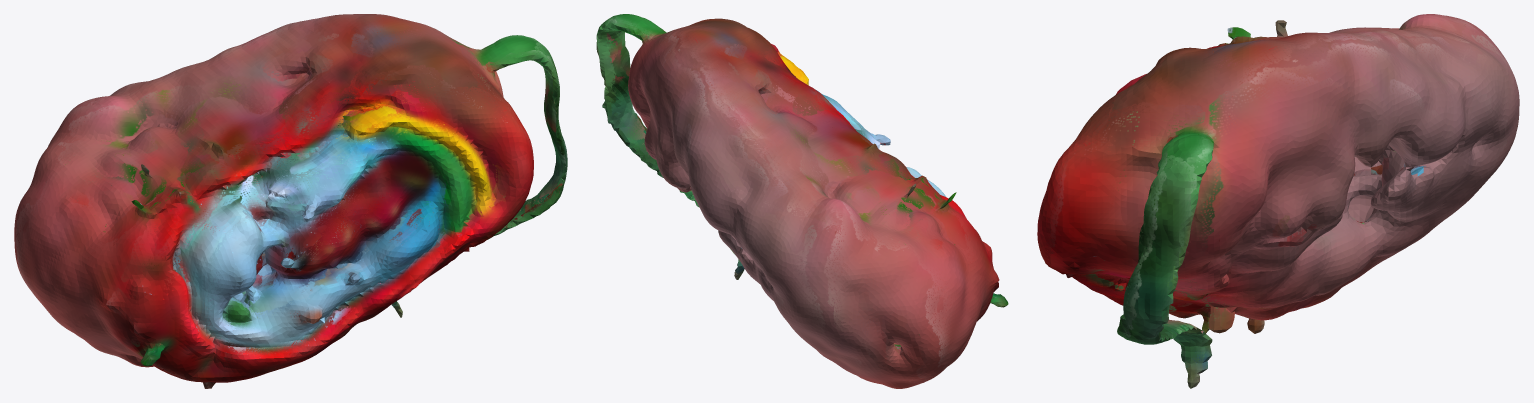
Rendered from prokaryotes.glb.
3 views of the same model, side by side, from view 1: azimuth 30°, elevation 25°; view 2: azimuth 150°, elevation 25°; view 3: azimuth 270°, elevation 25° (orthographic). The views are drawn at different scales.
Size of the model in its own units: 1.41 by 0.9367 by 1.02.
Materials: 1 (1 with a texture image).
